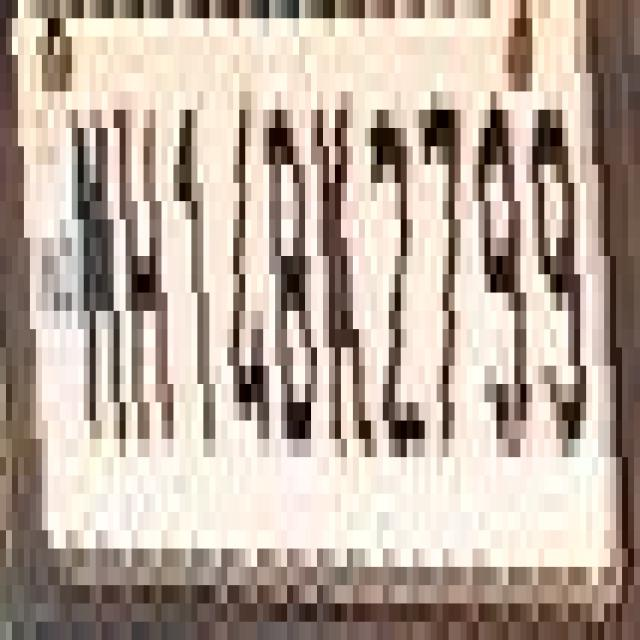license_plate: (18, 0, 640, 549)
